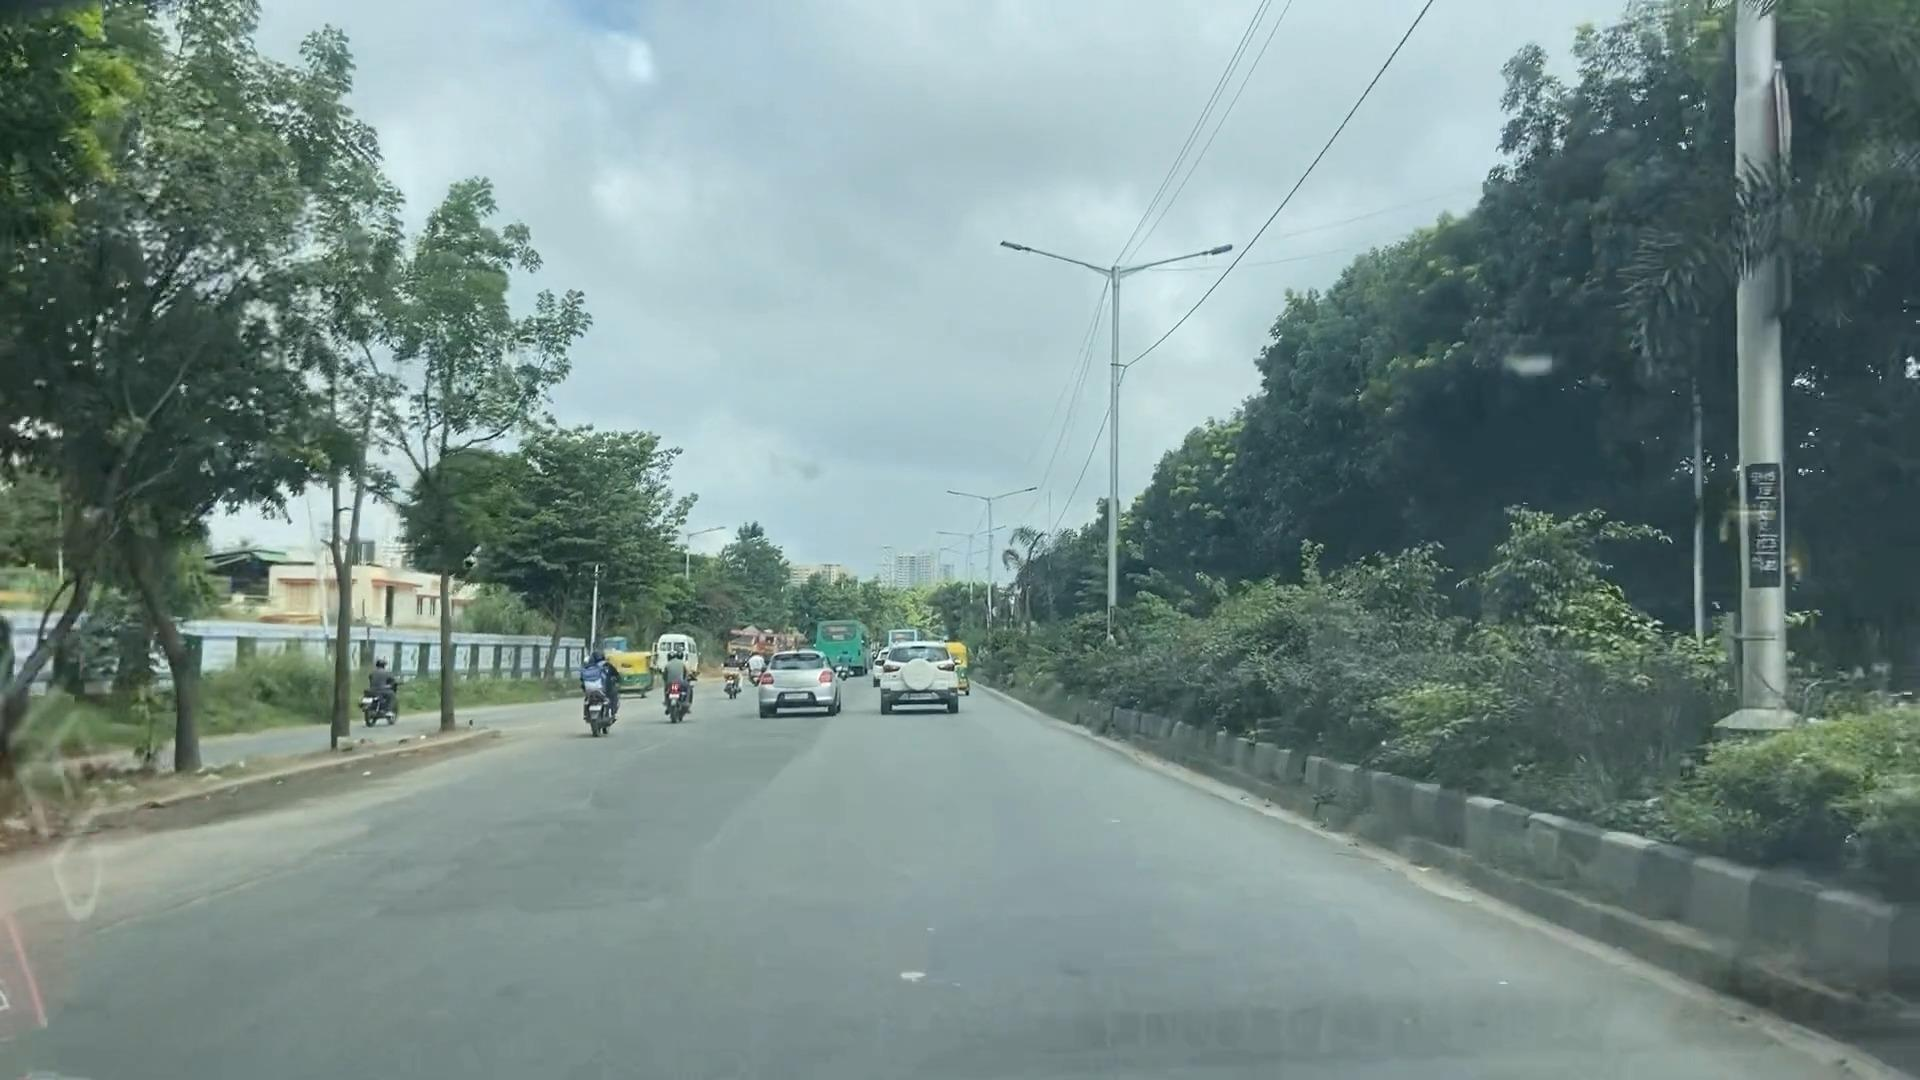LMV: (748, 634, 849, 727), (874, 626, 974, 716), (572, 634, 638, 737), (356, 642, 420, 739), (658, 630, 711, 735)
